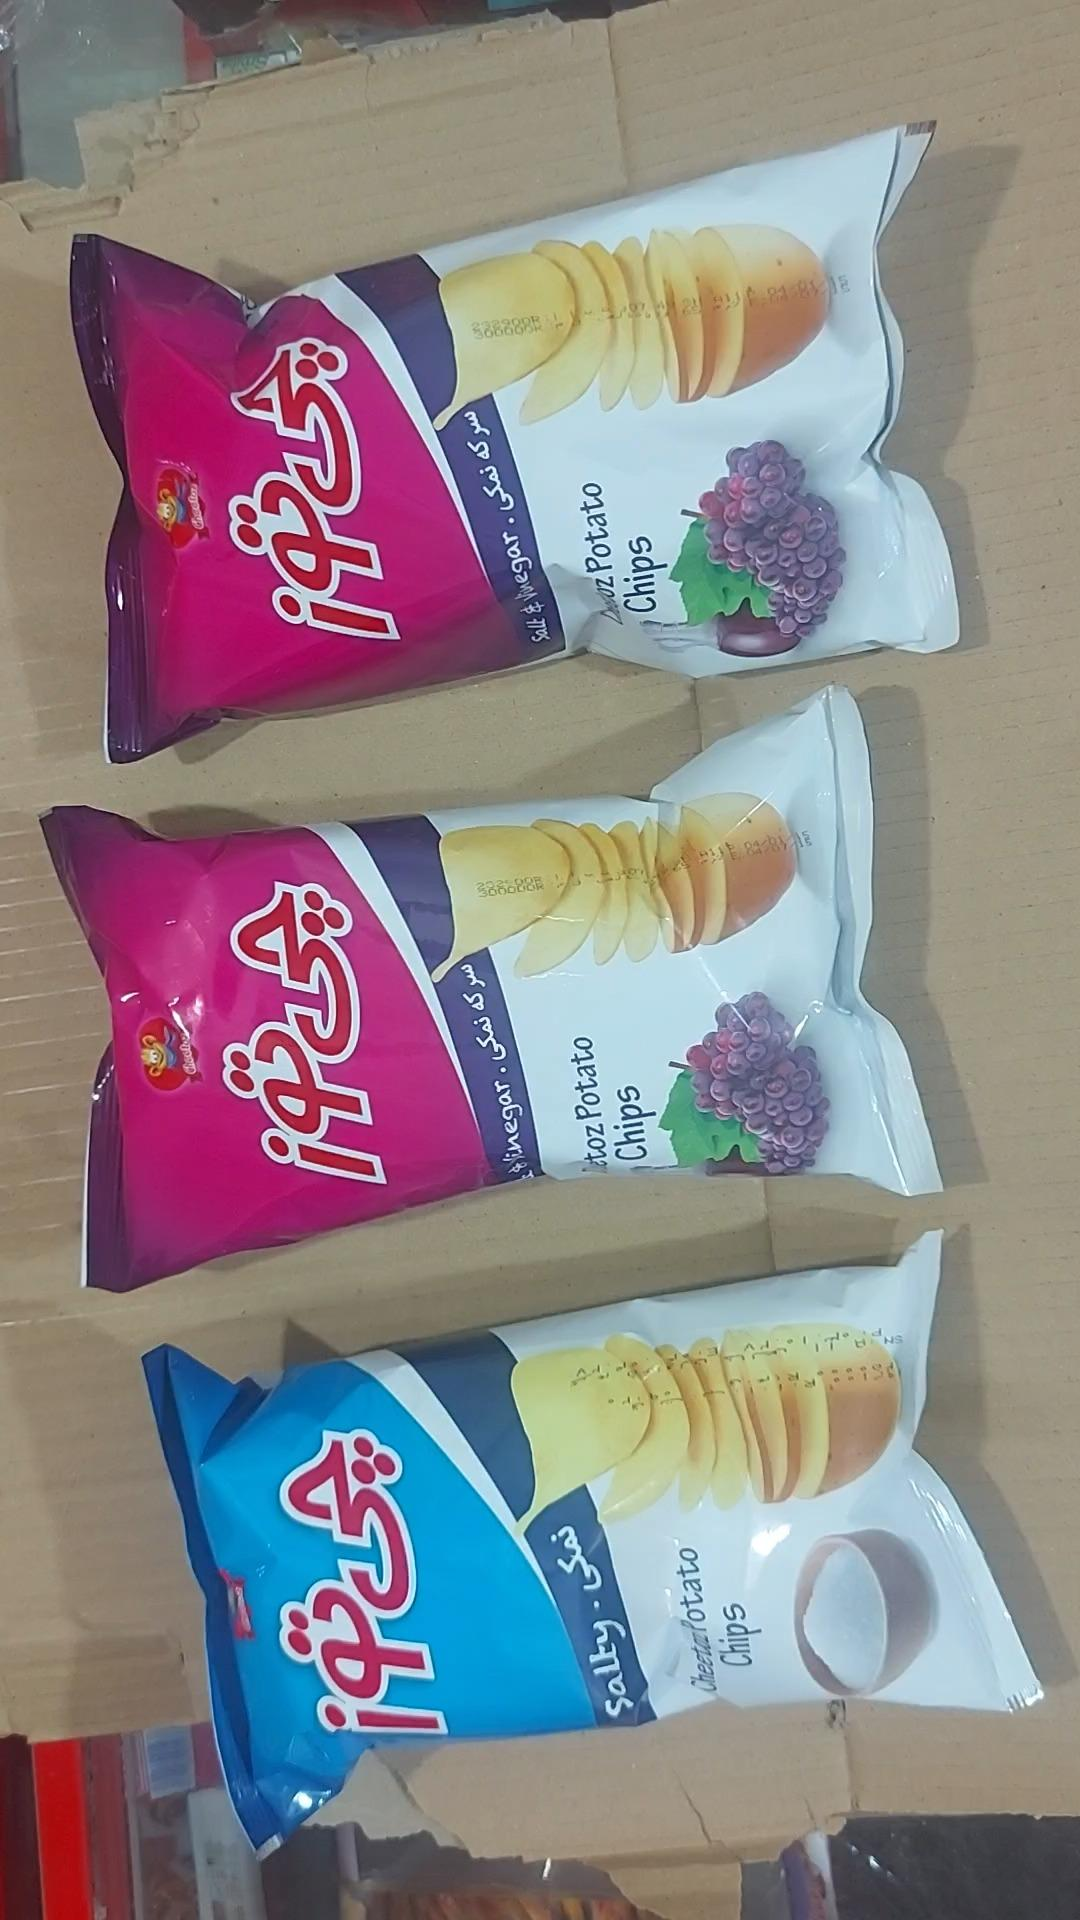Cheetoz salty chips: (144, 1236, 1040, 1847)
Cheetoz vinegar chips: (70, 128, 957, 762), (44, 694, 938, 1291)
